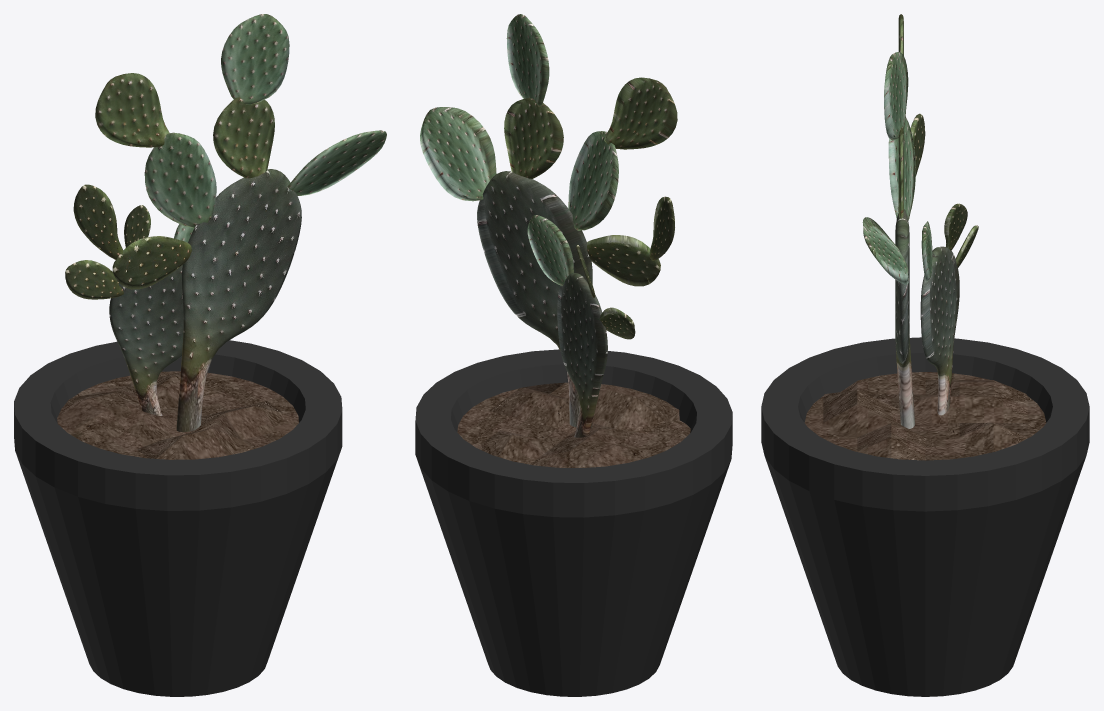
The model's file is Prickly pear Cactus..fbx.
The picture shows the model from 3 angles, left to right: view 1: azimuth 30°, elevation 25°; view 2: azimuth 150°, elevation 25°; view 3: azimuth 270°, elevation 25°; orthographic projection. The views are drawn at different scales.
Visible parts, largest first — view 1: Cylinder, prickly pear cactus.001, Plane; view 2: Cylinder, prickly pear cactus.001, Plane; view 3: Cylinder, Plane, prickly pear cactus.001.
Boxes of the visible parts, x1,y1,x2,y2 form: Cylinder: [14, 340, 342, 696]; prickly pear cactus.001: [65, 14, 386, 432]; Plane: [57, 371, 298, 459]; Cylinder: [415, 349, 732, 696]; prickly pear cactus.001: [420, 14, 677, 437]; Plane: [457, 382, 690, 467]; Cylinder: [761, 337, 1089, 696]; Plane: [804, 372, 1046, 460]; prickly pear cactus.001: [862, 14, 978, 428].
Bounding box in the file's own units: 38.47 × 72.46 × 33.76.
3 materials, 2 textured.
